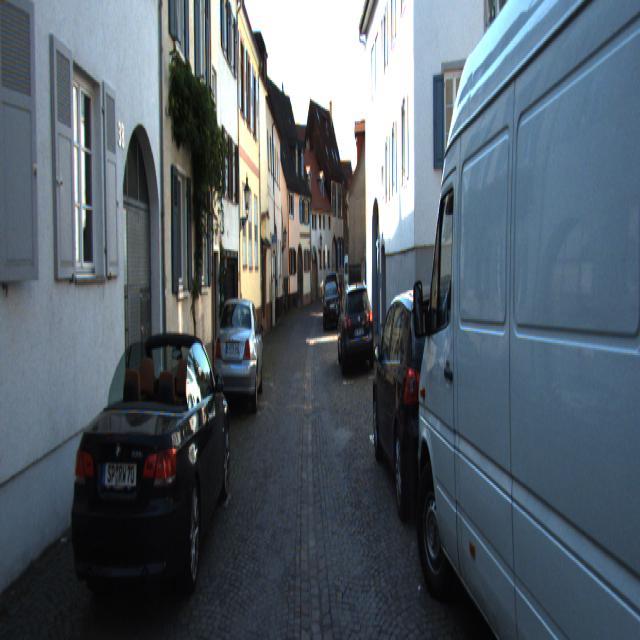Car: (409, 0, 611, 639), (61, 322, 232, 636), (370, 274, 488, 550), (212, 295, 264, 418), (336, 282, 375, 378), (343, 253, 363, 300), (322, 282, 340, 328)
